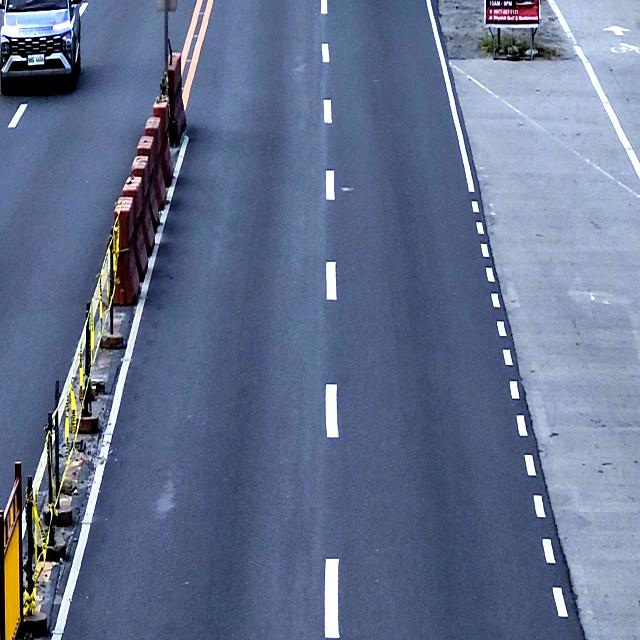Car: (0, 0, 81, 92)
License-Plate: (26, 54, 44, 66)
